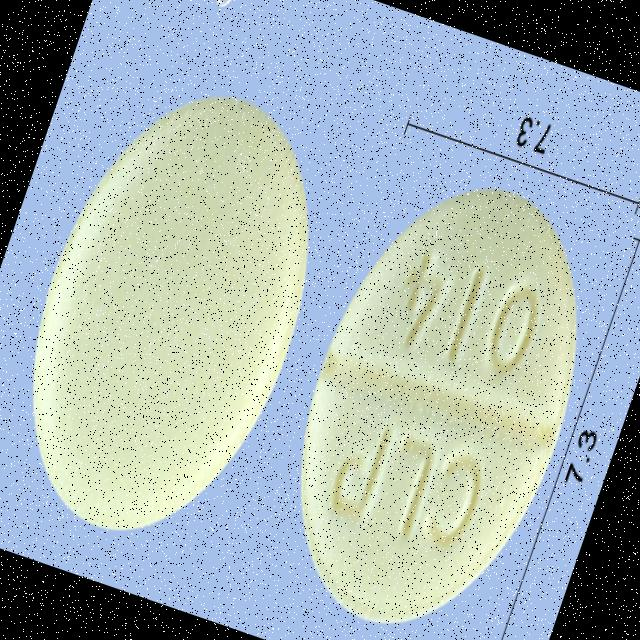Immuthera: (242, 154, 627, 640), (0, 58, 360, 567)
